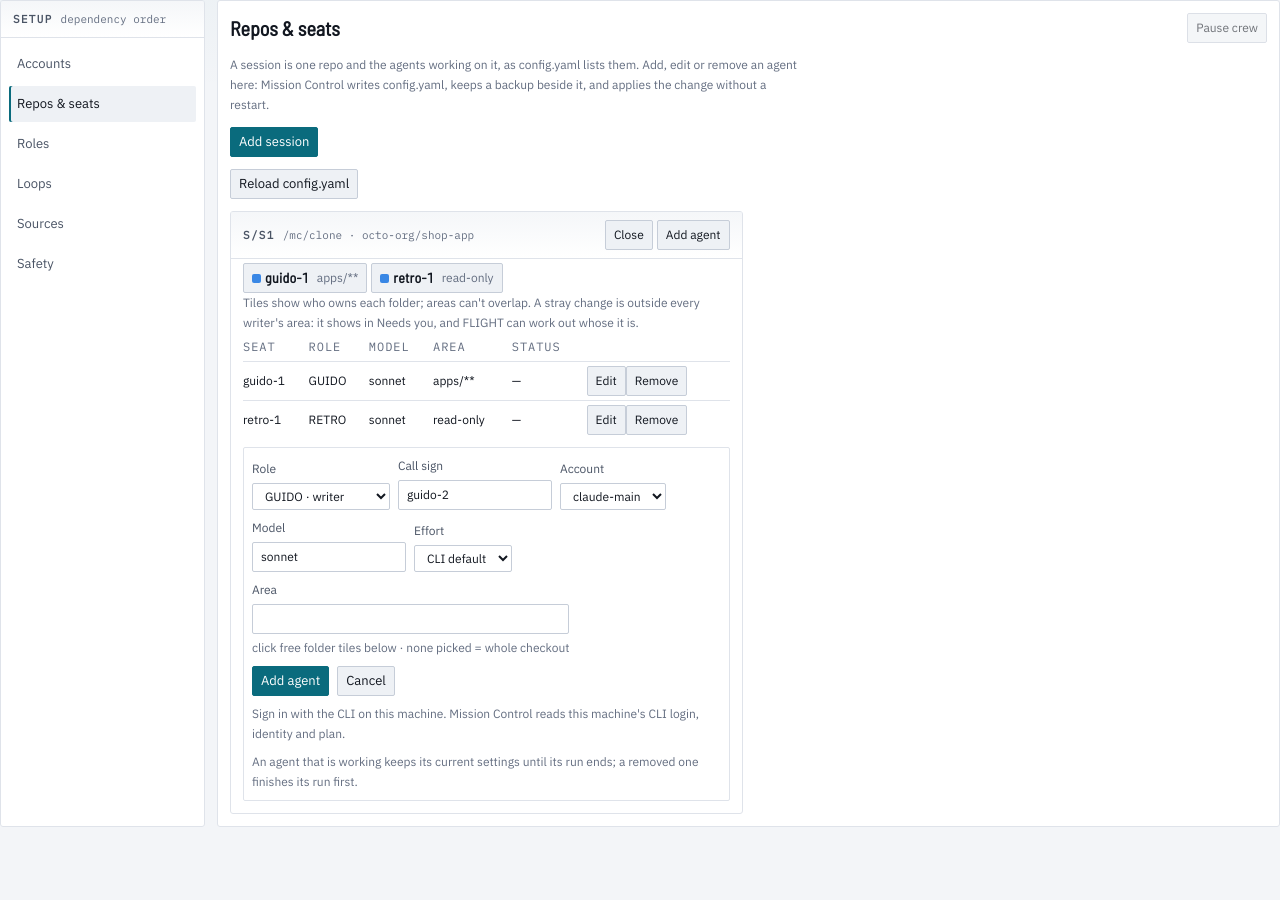
Scenario: Setup tabs › Sessions: seats › keeps the requested session visible outside the session filter after Cancel
Expected: the text "A session is one repo and the agents working on it, as config.yaml lists them. Add, edit or remove an agent here: Missio" is shown, x1=230 y1=57 x2=797 y2=112
Click the button "Cancel" at (366, 681), box x1=337 y1=666 x2=395 y2=696
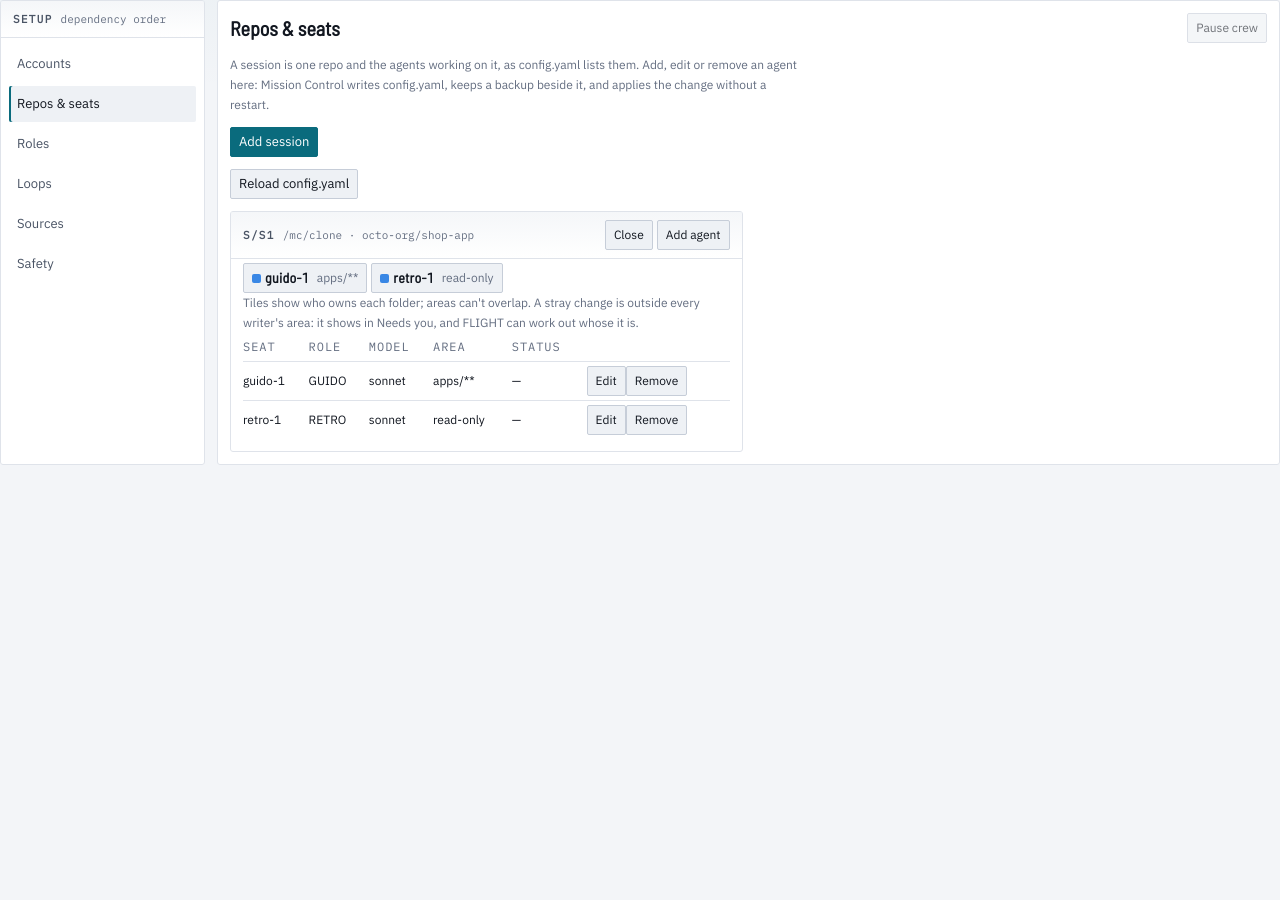
Expected: the element "s/s1" is shown, x1=230 y1=211 x2=742 y2=452
Now the form is gone
